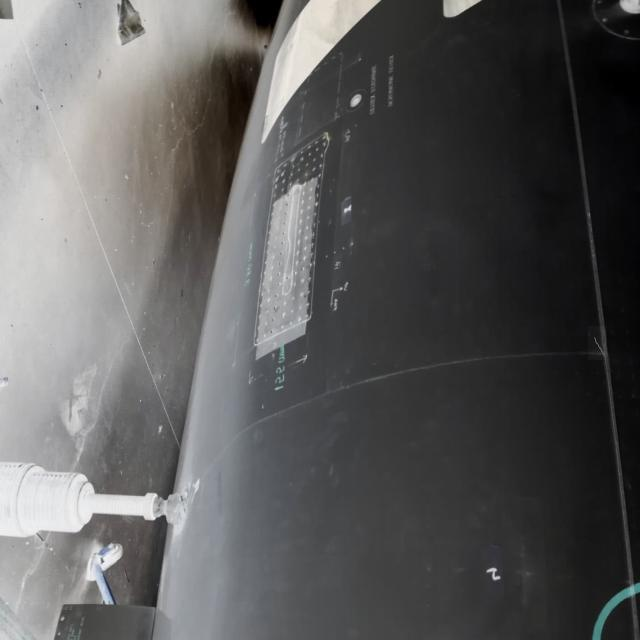crack: (589, 328, 608, 361)
